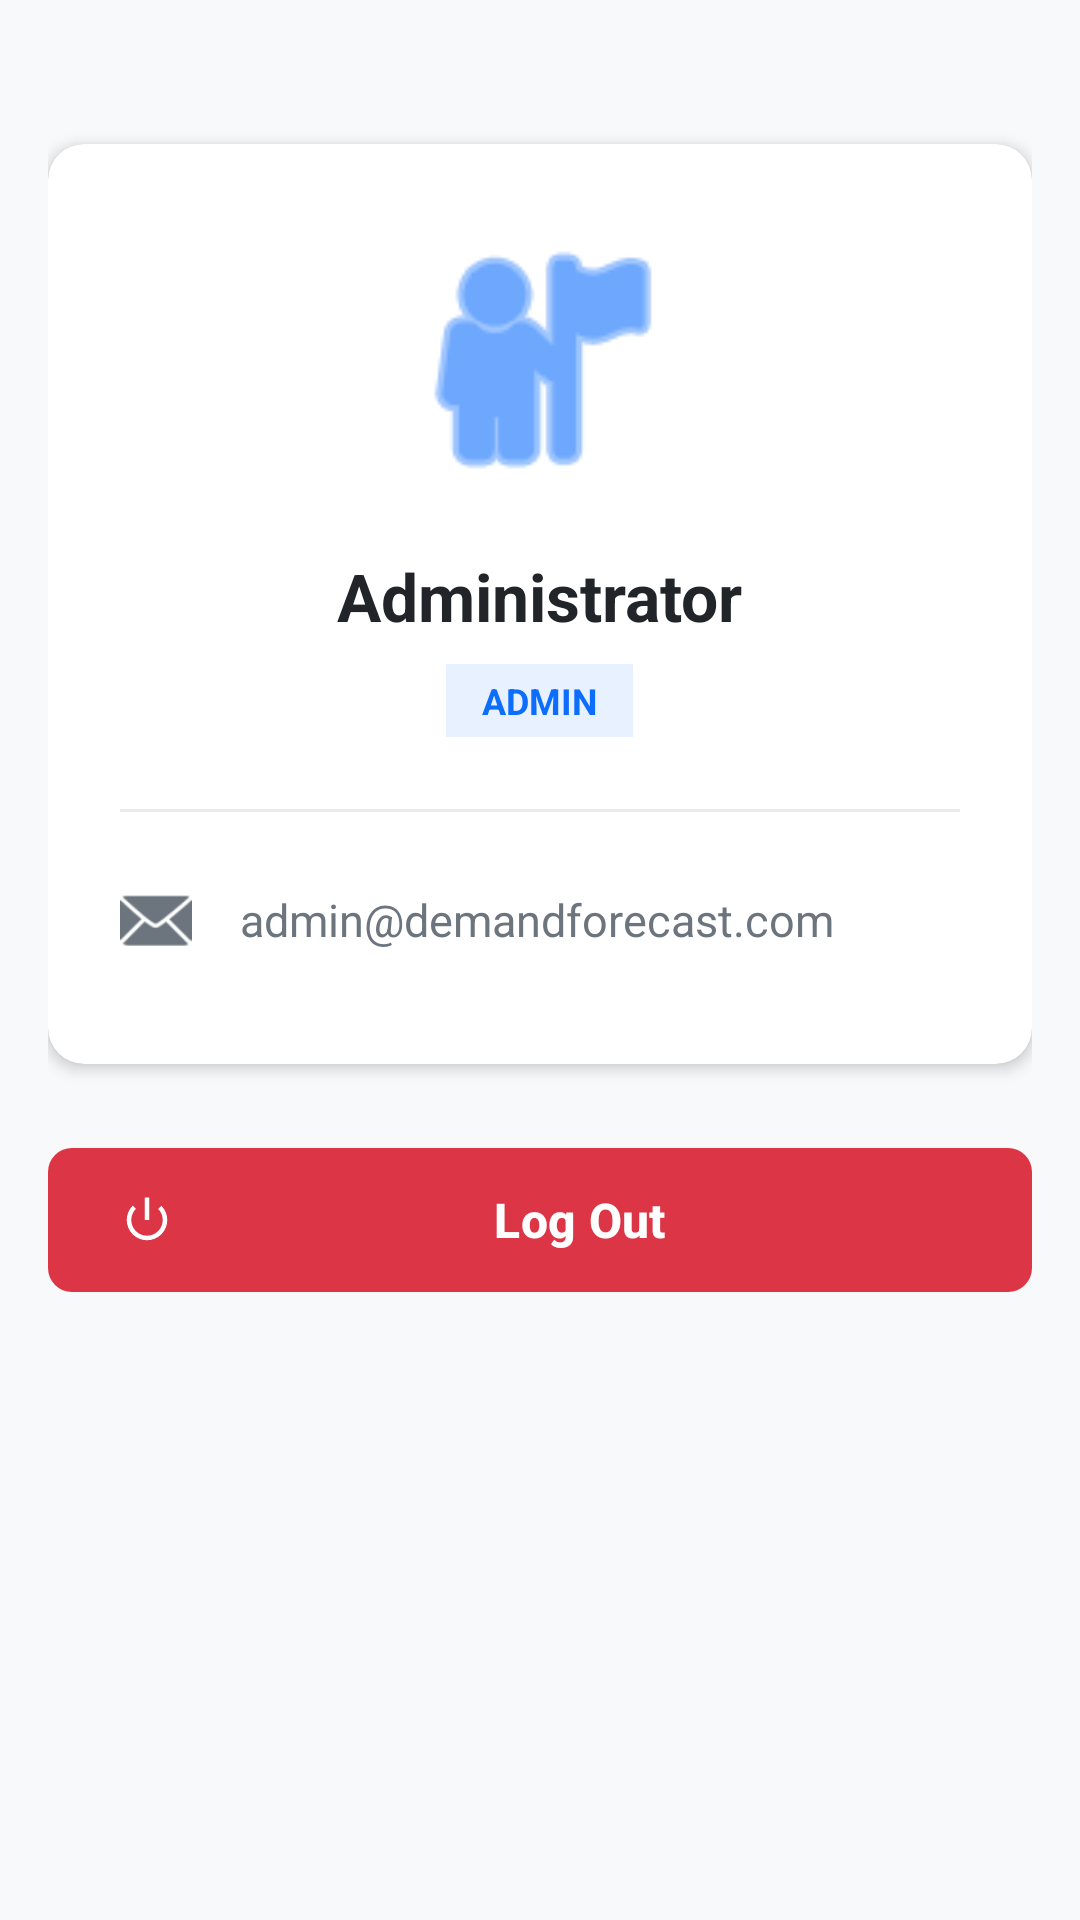

Icon bounding boxes for this 1080×1920 phone screenshot, format (x1, y1, x2, y2):
Email Icon: (120, 895, 192, 946)
Profile Picture: (435, 252, 652, 468)
